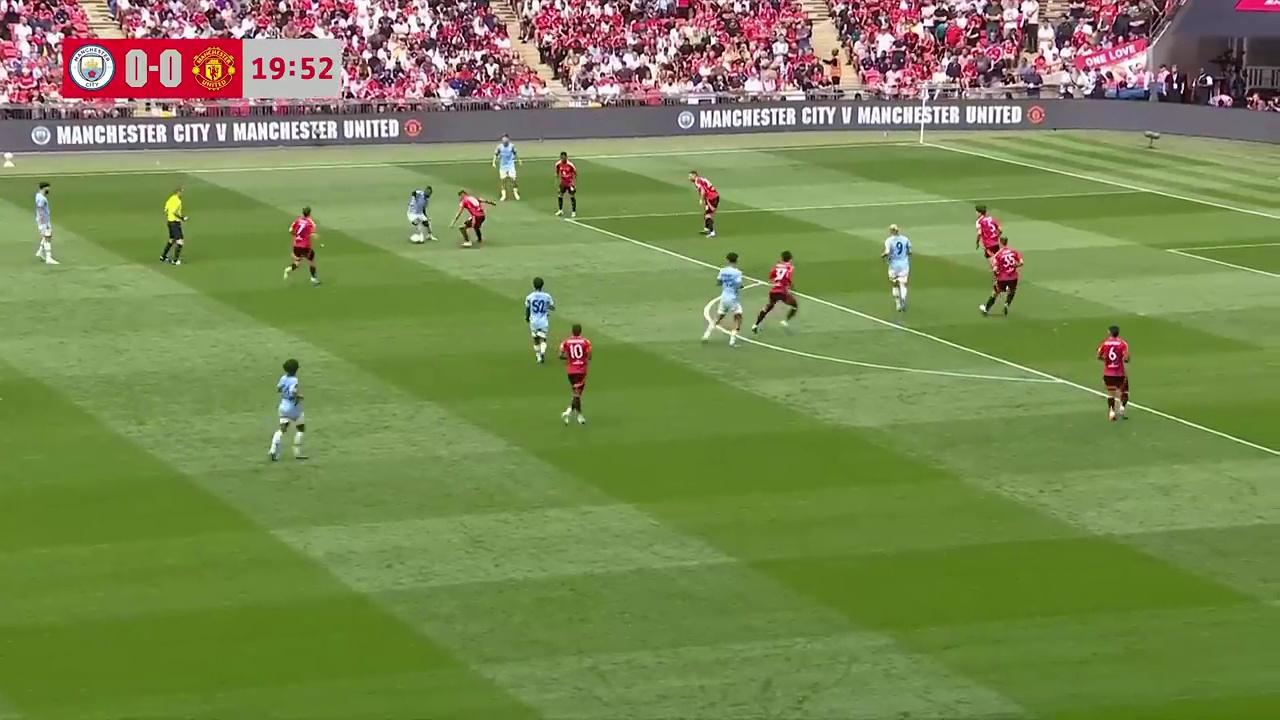ball: (410, 230, 423, 243)
player: (701, 253, 746, 347), (267, 359, 306, 462), (557, 323, 591, 426), (755, 250, 797, 331), (1095, 325, 1130, 421), (283, 206, 323, 286), (524, 277, 556, 362), (880, 225, 911, 312), (992, 241, 1023, 316), (451, 188, 489, 247), (689, 171, 719, 237), (34, 183, 58, 263), (975, 205, 1002, 267), (495, 140, 520, 202), (554, 152, 577, 219), (408, 185, 435, 242)
referee: (160, 187, 188, 265), (553, 152, 577, 218)
